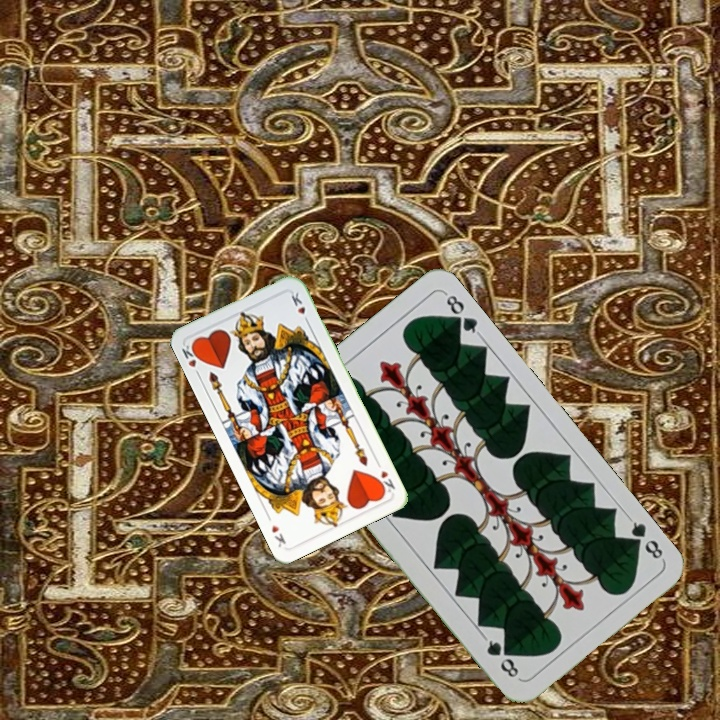G8: (624, 513, 666, 562)
HK: (177, 339, 204, 379), (372, 457, 398, 497)
